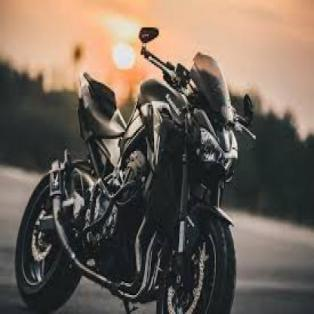Motocicleta: (9, 41, 250, 312)
